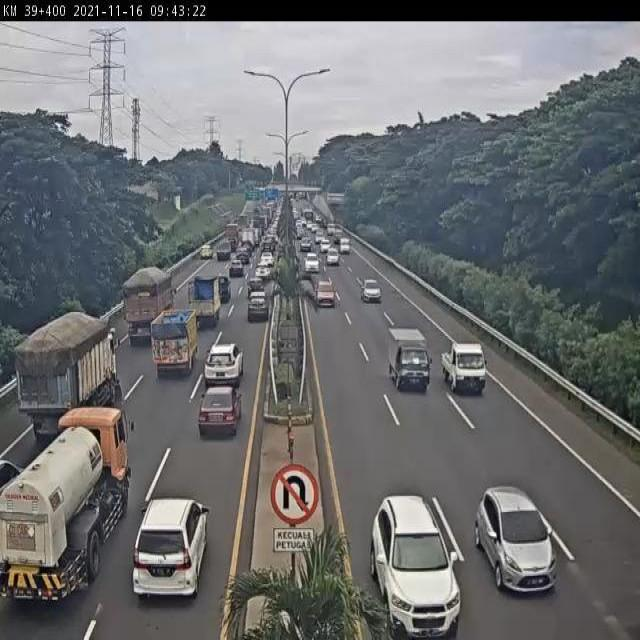car: (371, 486, 463, 640), (476, 488, 557, 593), (136, 492, 203, 605), (190, 376, 240, 447), (390, 328, 431, 396), (439, 338, 487, 394), (203, 337, 244, 395), (313, 277, 337, 311), (247, 289, 267, 327), (361, 277, 384, 307), (210, 278, 226, 314), (195, 240, 217, 263), (247, 278, 262, 306), (229, 252, 244, 279), (253, 269, 265, 292), (260, 253, 271, 271), (305, 242, 315, 258)
small truck: (147, 313, 192, 392), (183, 272, 220, 333)
truck-m-: (0, 400, 125, 623), (17, 311, 119, 437), (125, 269, 170, 348)
